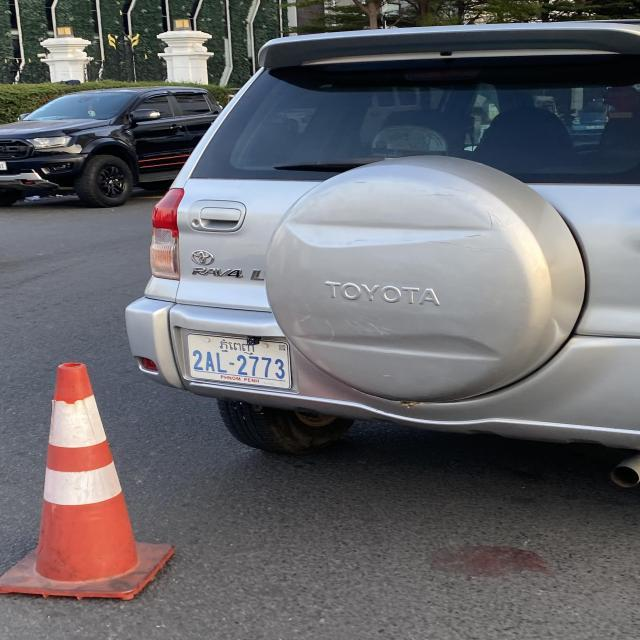Phnom_Penh: (215, 337, 262, 355)
